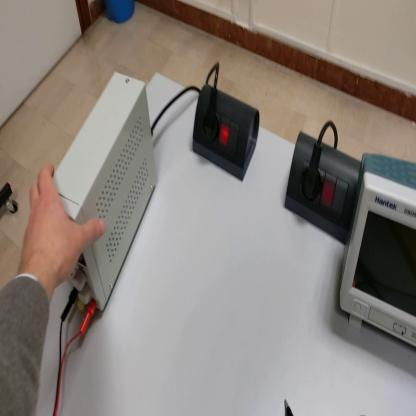hand: (20, 163, 106, 289)
oscilloscope: (339, 149, 416, 350)
power supply: (55, 75, 162, 314)
socket: (285, 128, 363, 250), (191, 84, 262, 186)
